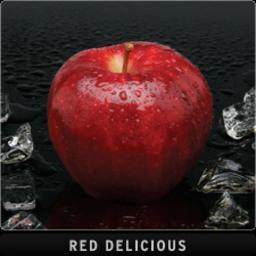apple: (44, 42, 215, 207)
